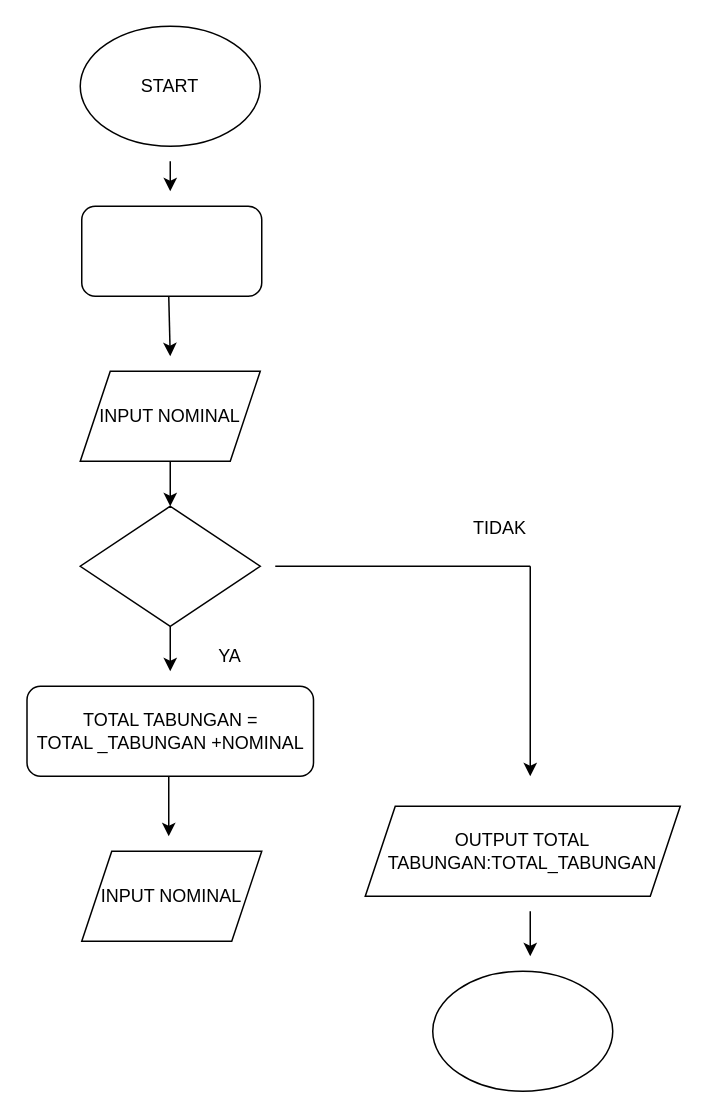
The diagram is 707 pixels wide and 1118 high, and some of its shapes have lost their labels. Each missing label, with the centre of its shape:
END: the point at 522,1030
NOMINAL!=0?: the point at 169,565
TOTAL TABUNGAN: the point at 171,250
